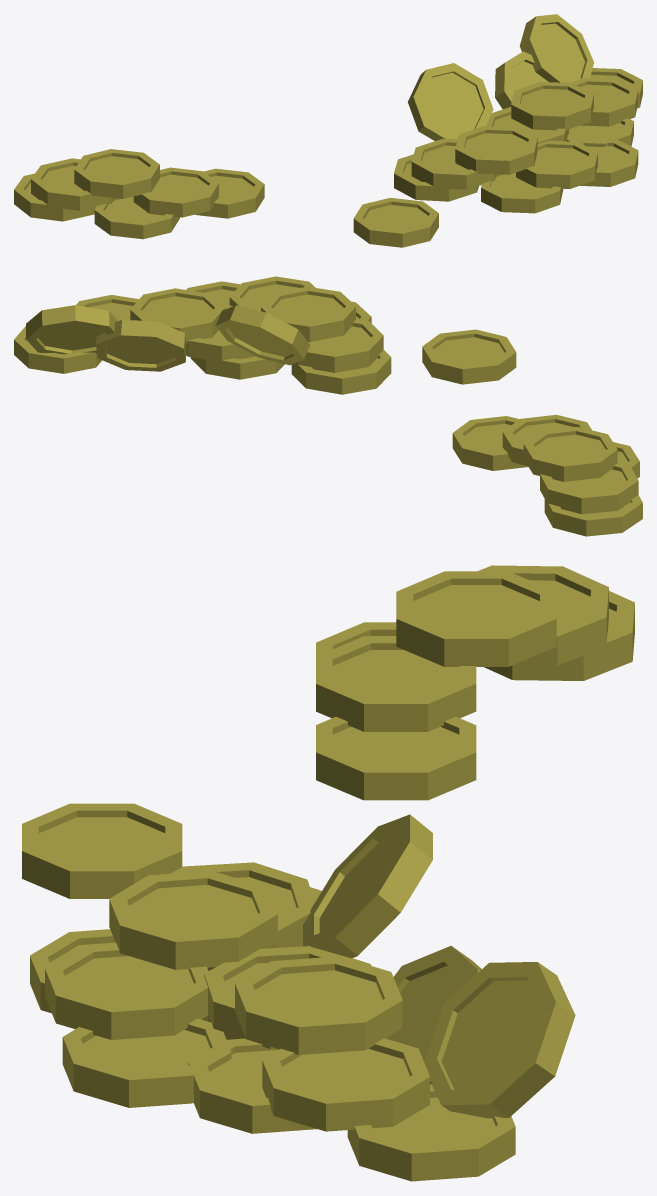
File: Gold_on_bottom_of_Bag.fbx
3 renders of one model, top to bottom at view 1: azimuth 30°, elevation 25°; view 2: azimuth 150°, elevation 25°; view 3: azimuth 270°, elevation 25°, orthographic. The views are drawn at different scales.
Visible parts, largest first — view 1: Gold_on_bottom_of_Bag; view 2: Gold_on_bottom_of_Bag; view 3: Gold_on_bottom_of_Bag.
Part boxes in pixels (x1=…): Gold_on_bottom_of_Bag: x1=14, y1=14, x2=642, y2=247; Gold_on_bottom_of_Bag: x1=14, y1=276, x2=642, y2=536; Gold_on_bottom_of_Bag: x1=22, y1=565, x2=634, y2=1181.
Bounding box in the file's own units: 69.29 × 9.67 × 31.41.
